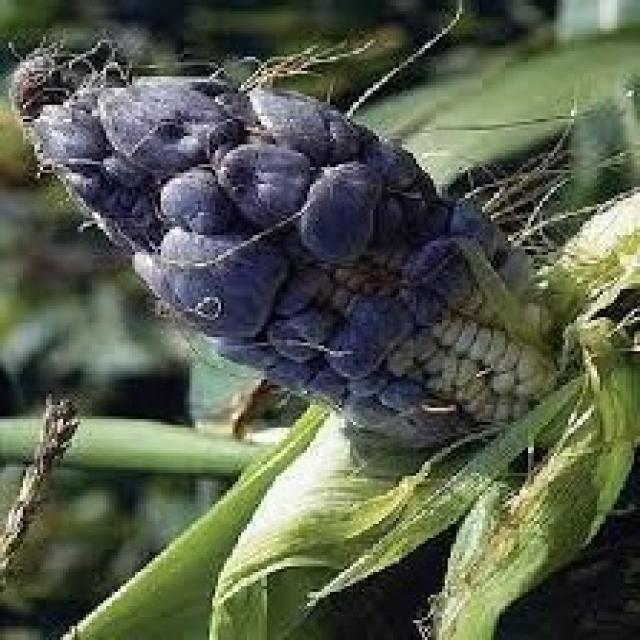Leaf_Scald: (14, 26, 629, 532)
